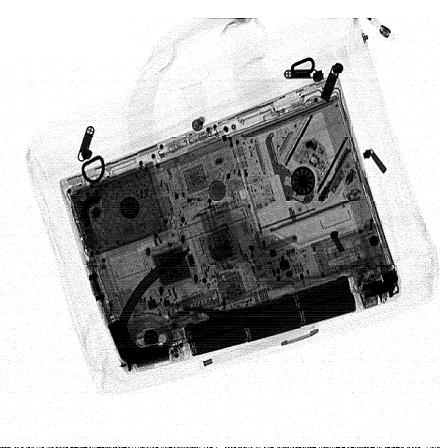Scissors: (177, 299, 295, 336)
